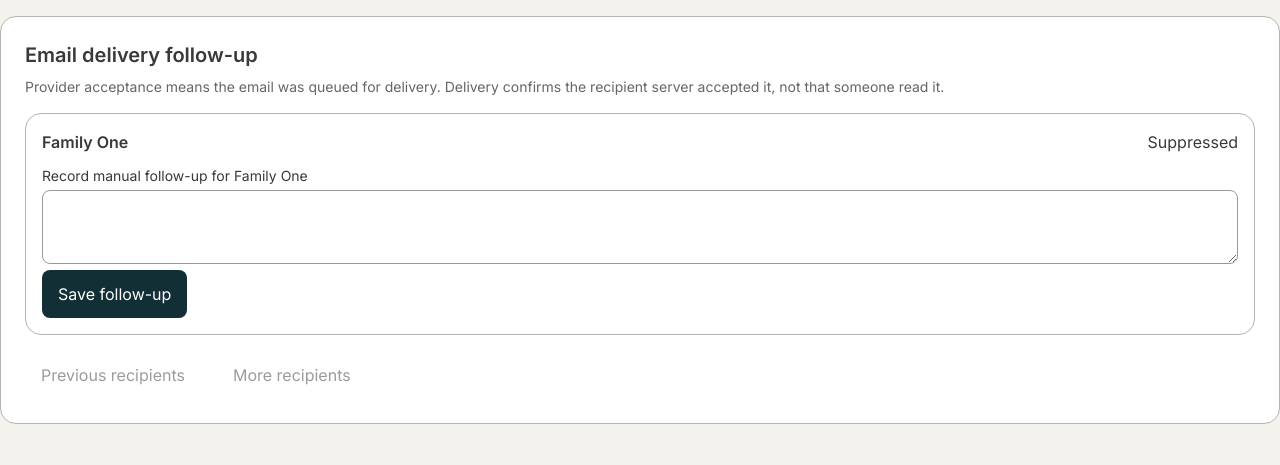
Test case: saves manual follow-up and reports failed actions
Expected: the heading "Family One" is shown, [42,130,128,154]
Type "Contacted by phone" into the text box at (640, 227), box [42,190,1238,264]
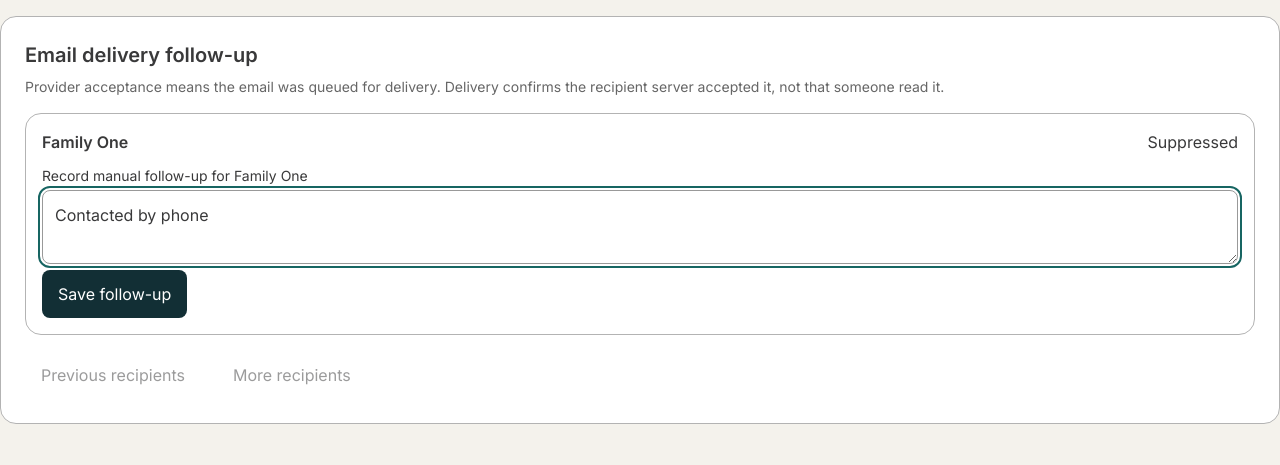
Click the button "Save follow-up" at (115, 294), box [42,270,187,318]
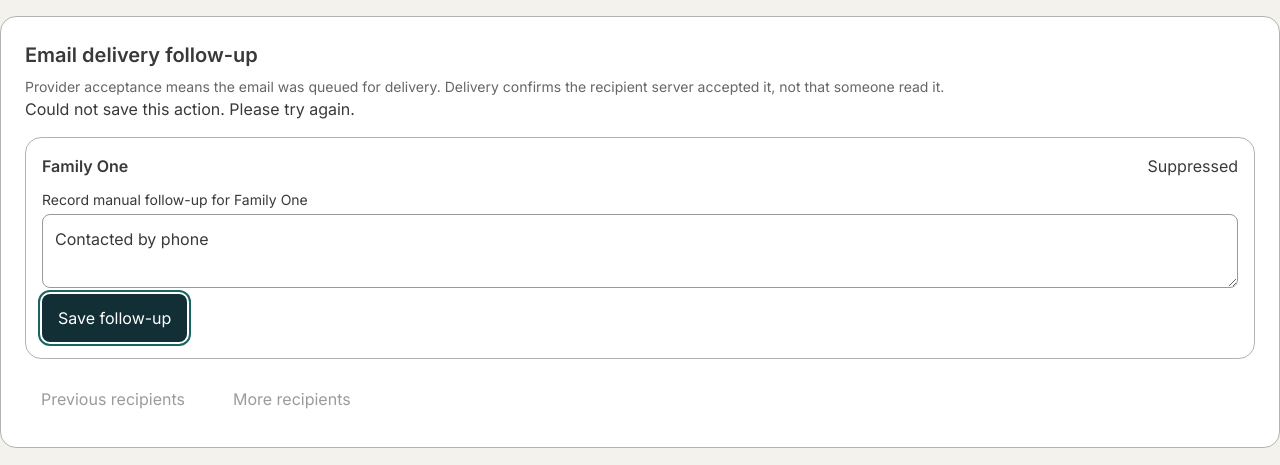
Now the message shows "Could not save", box [25,99,355,119]
